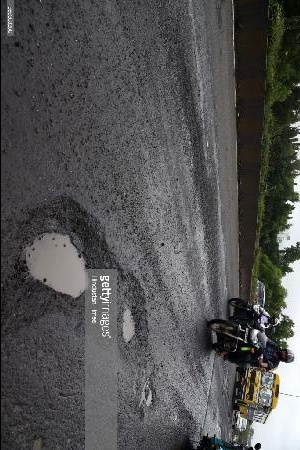pothole: (0, 194, 109, 332), (116, 266, 151, 357), (134, 376, 157, 414)
